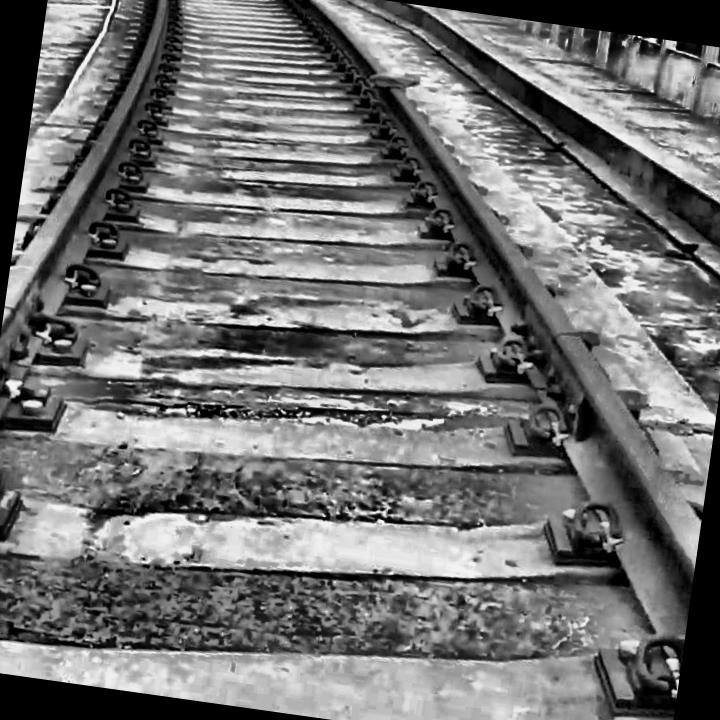Rock: (364, 56, 438, 100)
